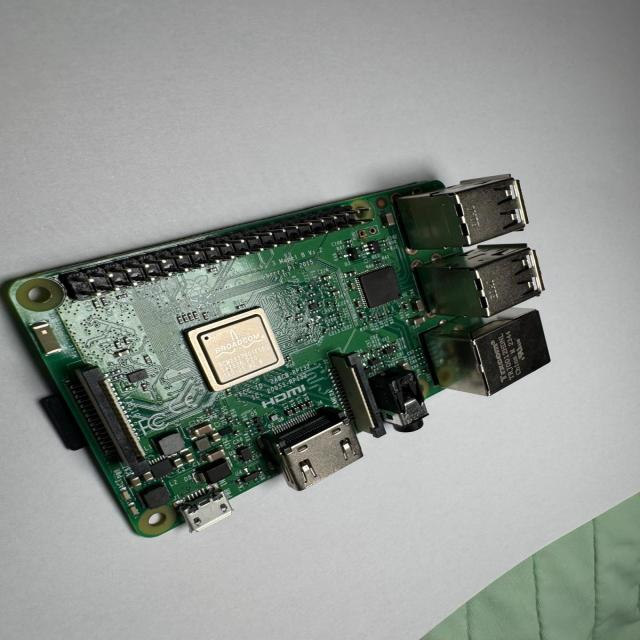CPU: (182, 307, 285, 394)
Ethernet: (428, 310, 553, 398)
GPIO: (59, 199, 372, 298)
HDMI: (260, 409, 364, 494)
RAM-3: (353, 264, 409, 311)
Raspberry: (3, 176, 551, 540)
